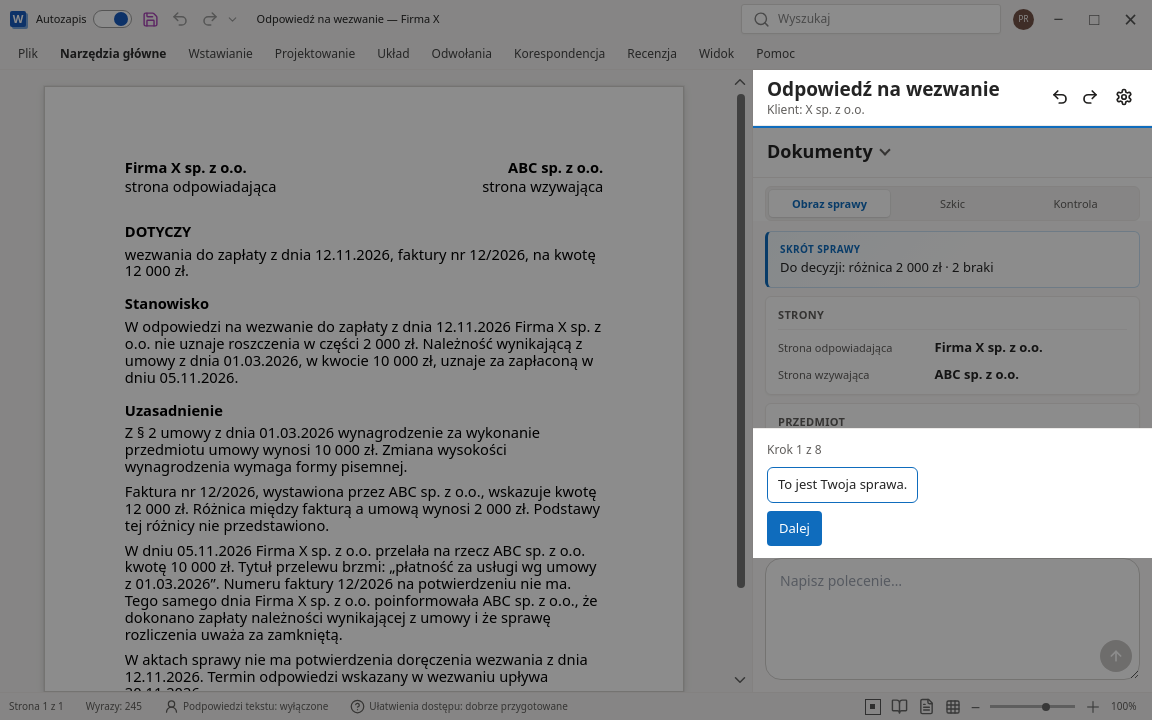
Test case: prezentacja › krok 5 otwiera szkic i podświetla te same sekcje na piśmie
Click the button "Dalej": click(794, 529) x1=767 y1=511 x2=822 y2=546
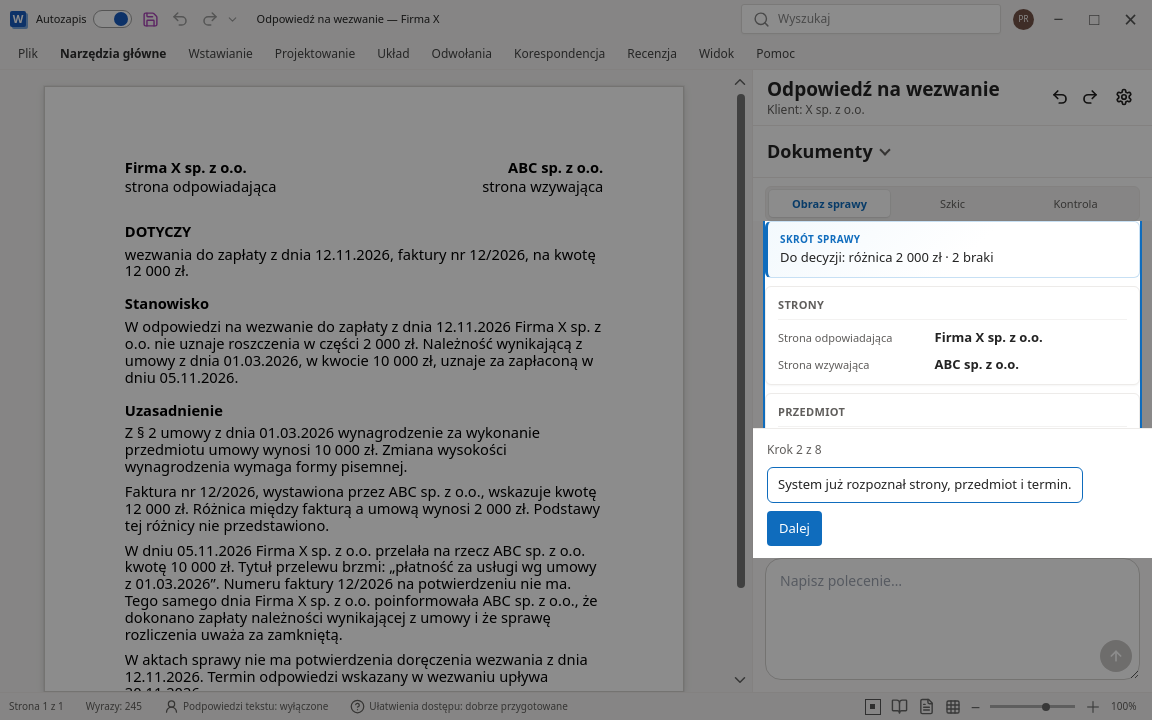
Click the button "Dalej": click(794, 529) x1=767 y1=511 x2=822 y2=546
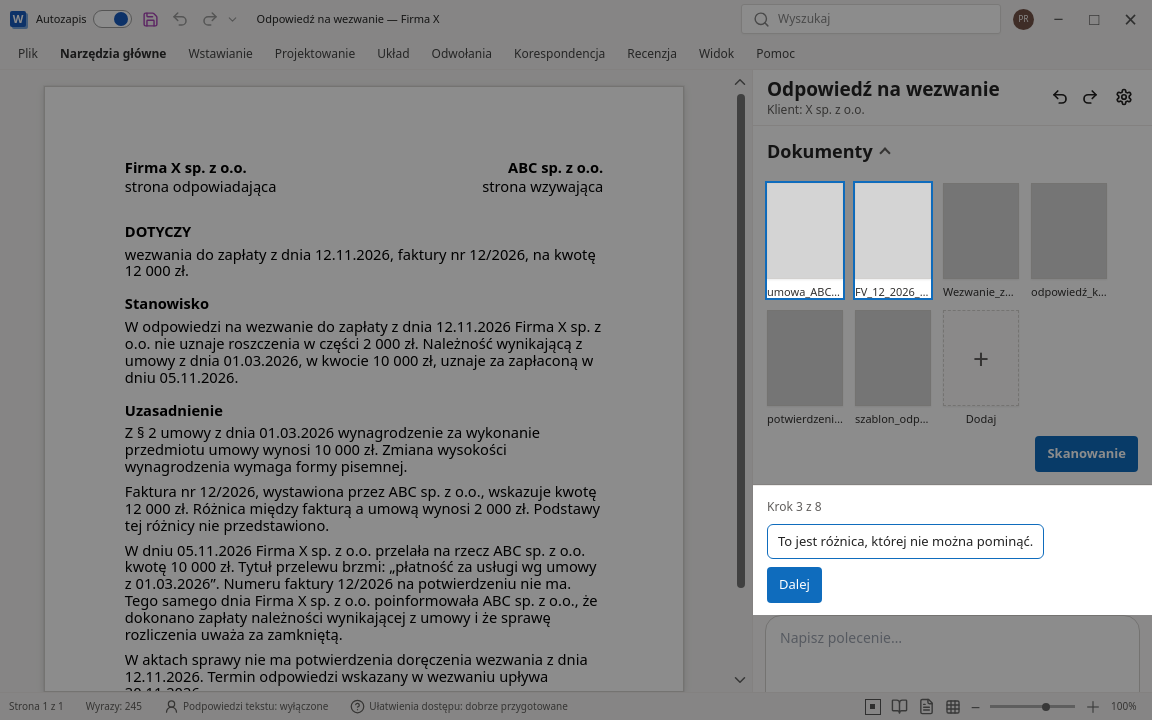
Click the button "Dalej": click(794, 585) x1=767 y1=567 x2=822 y2=603
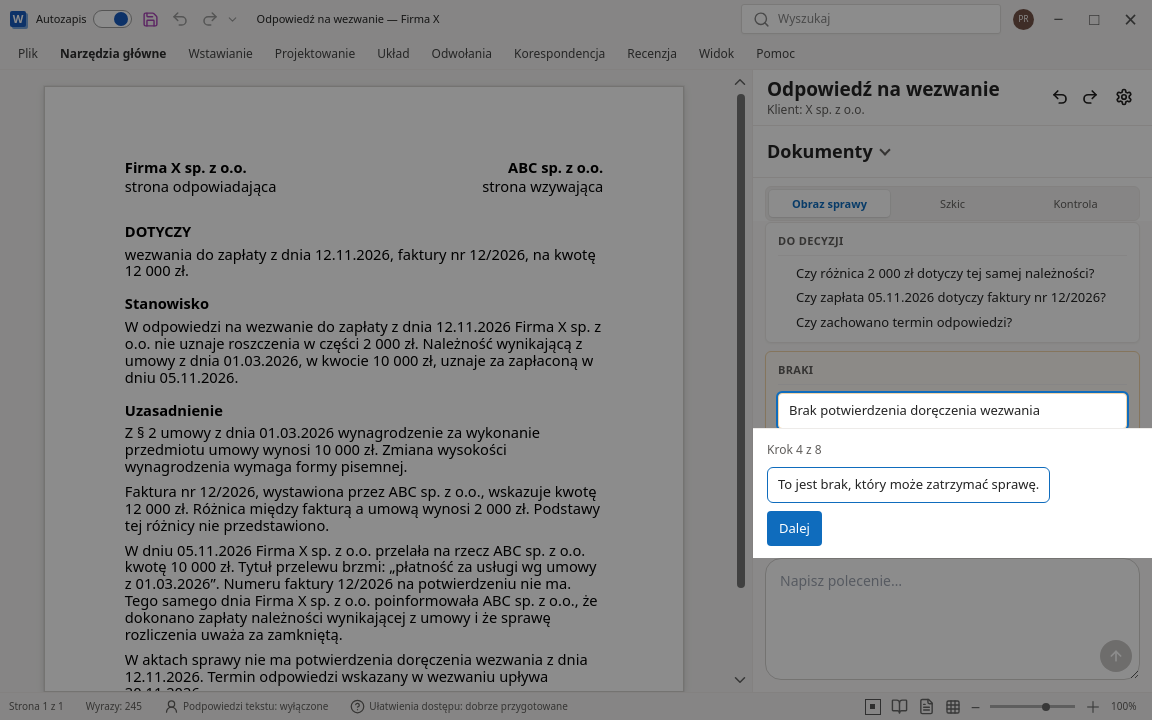
Click the button "Dalej": click(794, 529) x1=767 y1=511 x2=822 y2=546
(page scrolled)
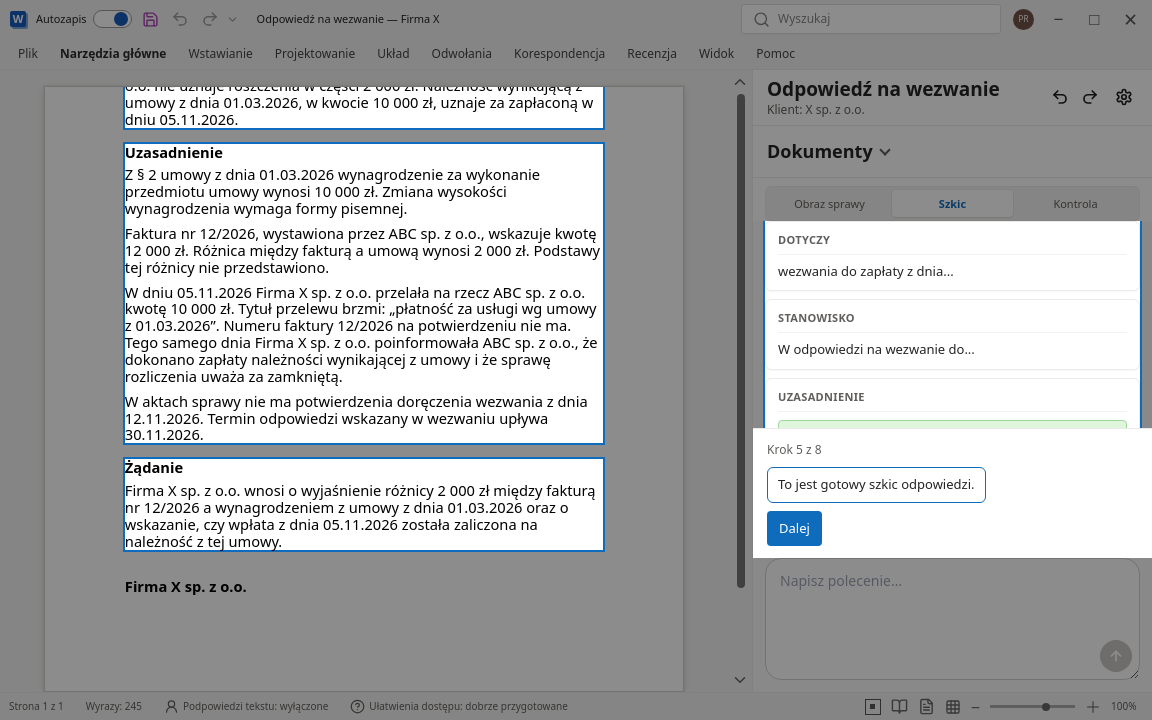
Expected: the panel shows "DOTYCZY", x1=778 y1=232 x2=830 y2=247
Expected: the text "To jest gotowy szkic odpowiedzi." is shown, x1=767 y1=467 x2=986 y2=503
Expected: the panel shows "Stanowisko", x1=778 y1=310 x2=855 y2=325
